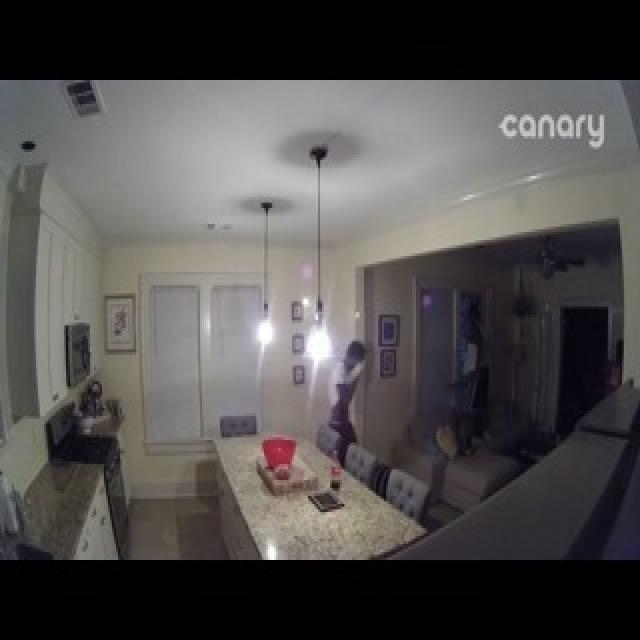thief: (322, 348, 364, 472)
